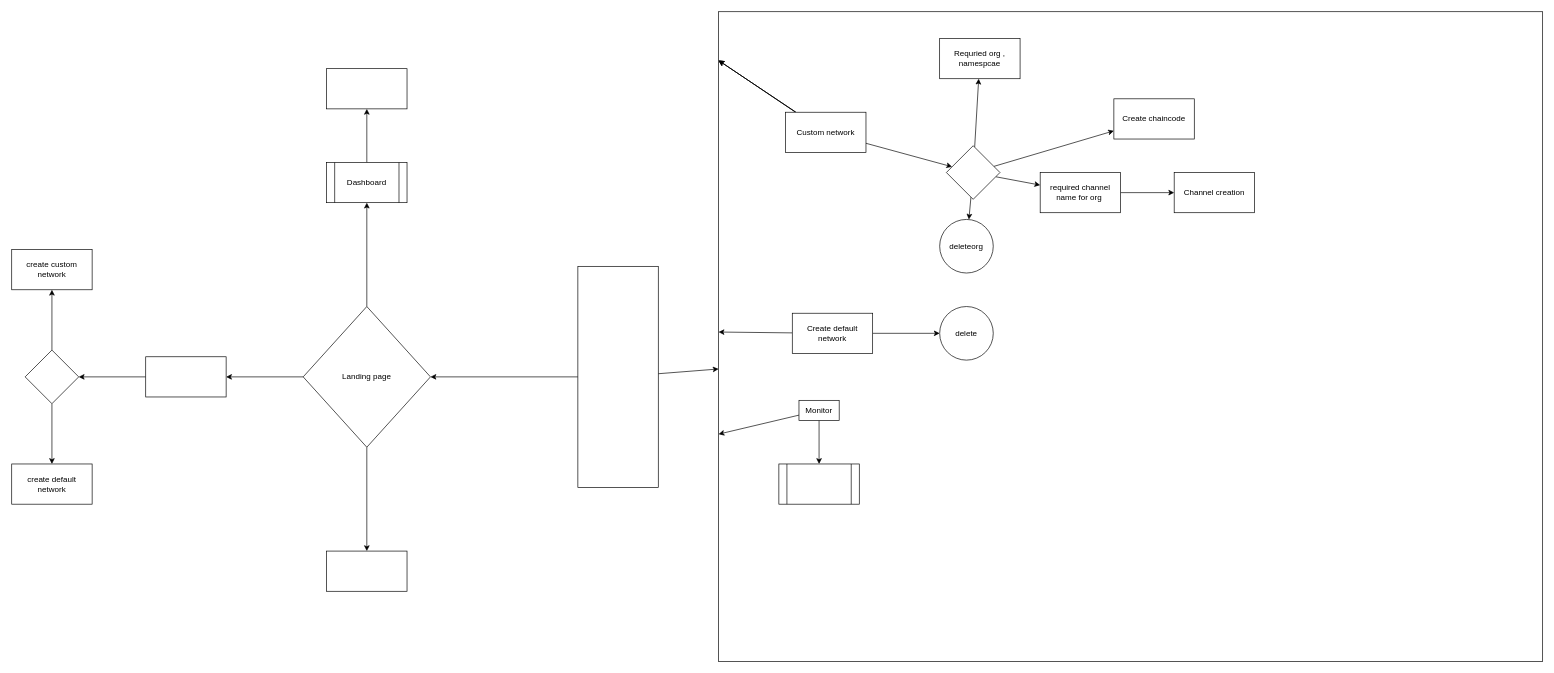
This 1554x673 diagram has some shape labels left out. The shapes that lost their labels are listed below. From the top down, each one's centre as x and y in pixels, then its label:
(366,88): no of node no network running network
(973,172): Op/API
(185,376): show all network
(617,376): UI
(818,483): get a node detail performce
(366,570): Smart contract
